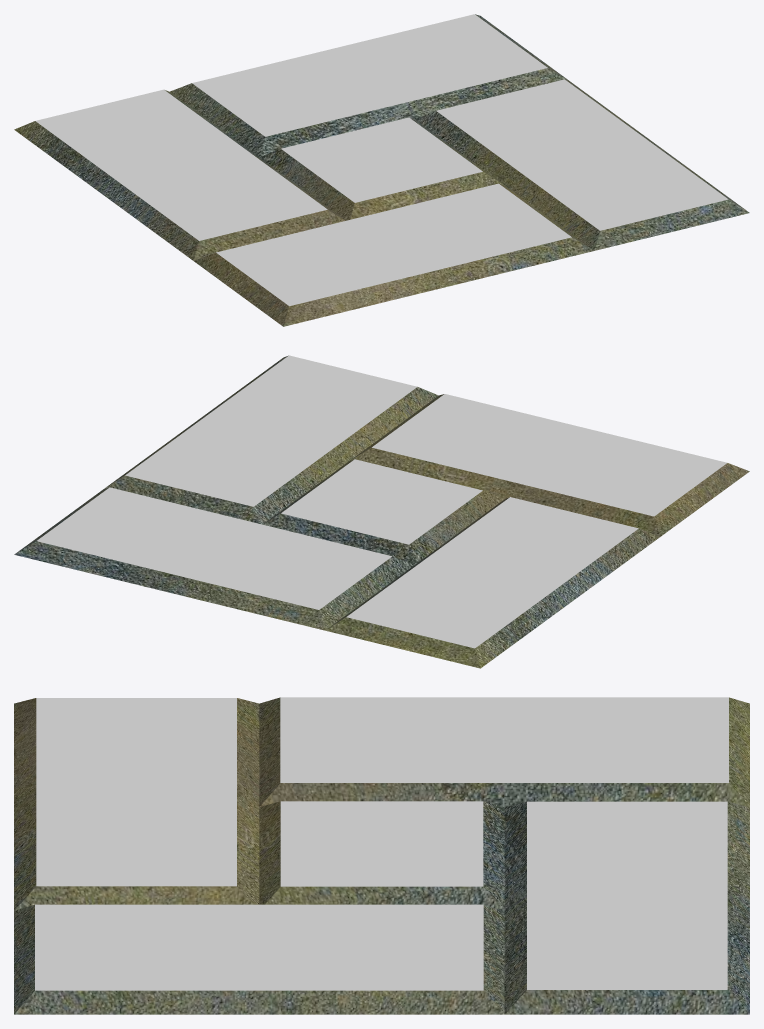
Rendered from Chão1tile.fbx.
3 views of the same model, one above another, from view 1: azimuth 30°, elevation 25°; view 2: azimuth 150°, elevation 25°; view 3: azimuth 270°, elevation 25° (orthographic). The views are drawn at different scales.
Parts seen in each view (by area): view 1: Plano.001; view 2: Plano.001; view 3: Plano.001.
Boxes of the visible parts, left/top/right/bottom form: Plano.001: left=14, top=14, right=749, bottom=326; Plano.001: left=14, top=355, right=749, bottom=668; Plano.001: left=14, top=697, right=749, bottom=1014.
Size of the model in its own units: 2925 by 66.58 by 2925.
